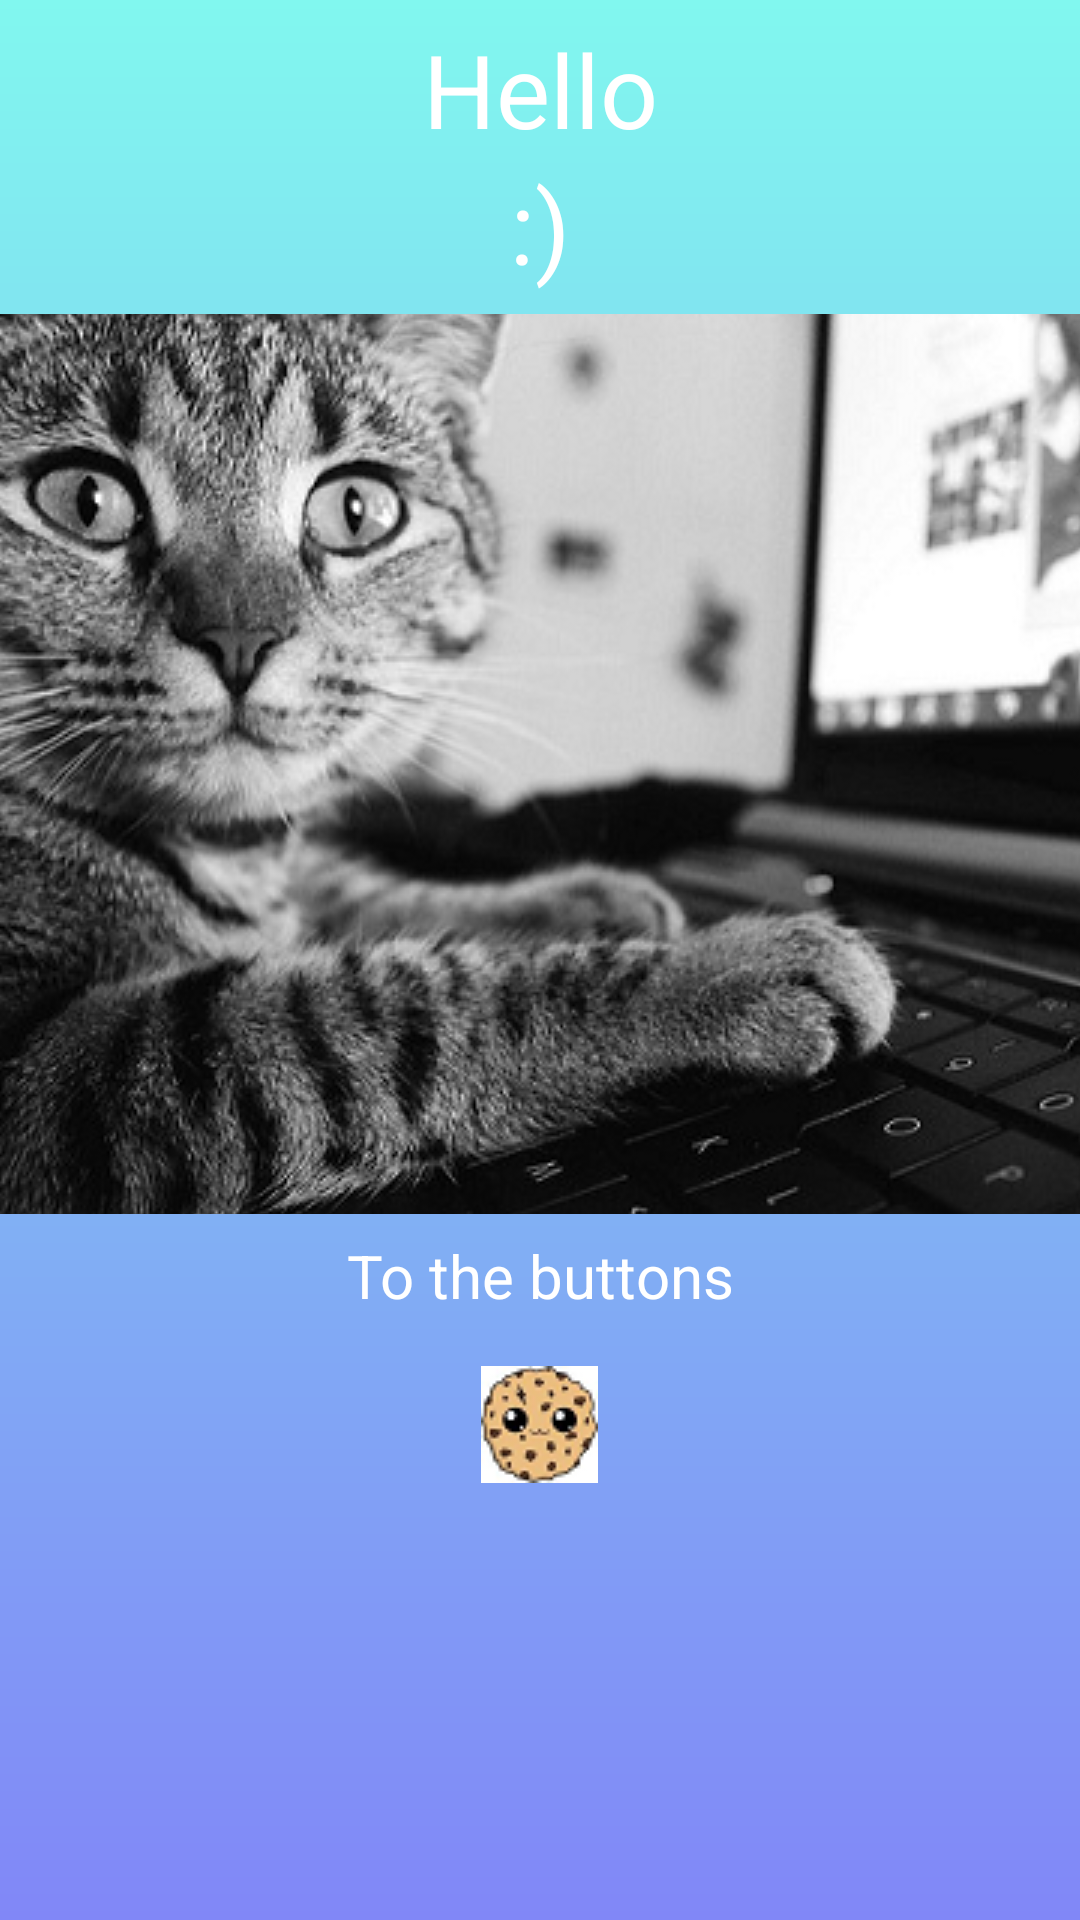

Icon bounding boxes for this 1080px x 1920px phone screenshot, format (x1, y1, x2, y2):
ciacho: (481, 1366, 598, 1483)
